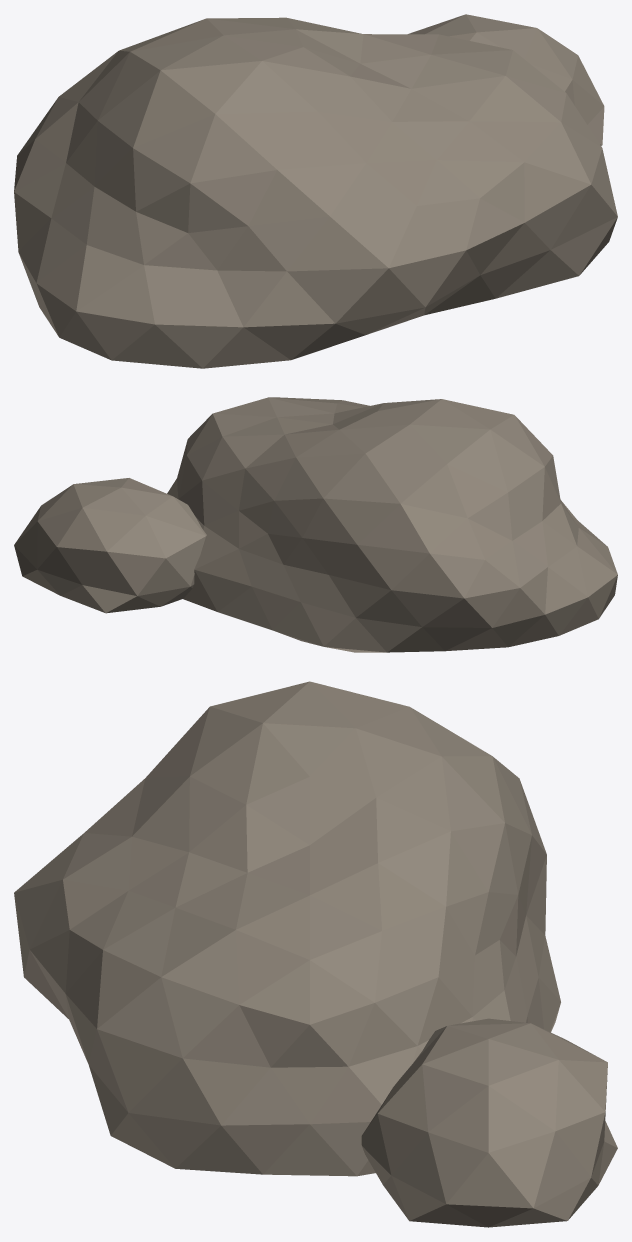
File: rock.glb
The picture shows the model from 3 angles, top to bottom: view 1: azimuth 30°, elevation 25°; view 2: azimuth 150°, elevation 25°; view 3: azimuth 270°, elevation 25°; orthographic projection. The views are drawn at different scales.
Parts seen in each view (by area): view 1: Rock_Mesh; view 2: Rock_Mesh; view 3: Rock_Mesh.
Boxes of the visible parts, bbox=[...] form: Rock_Mesh: bbox=[14, 14, 617, 368]; Rock_Mesh: bbox=[14, 397, 617, 652]; Rock_Mesh: bbox=[14, 681, 617, 1227].
Size of the model in its own units: 2.16 by 0.7462 by 1.52.
